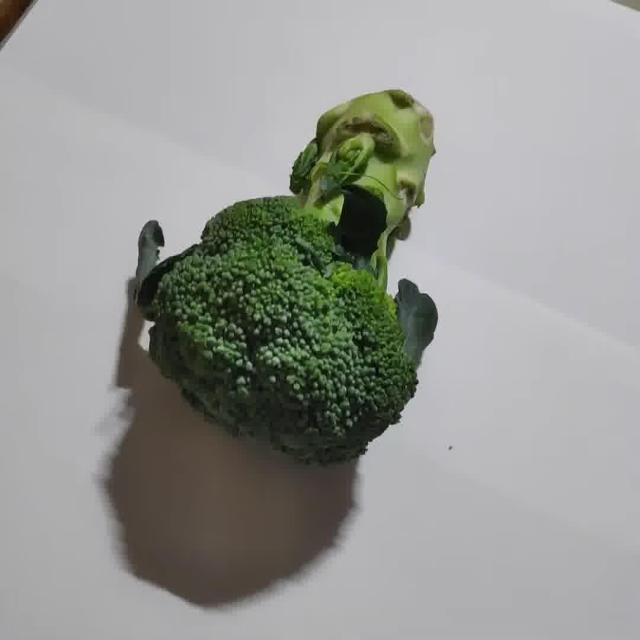Broccoli: (139, 86, 437, 458)
